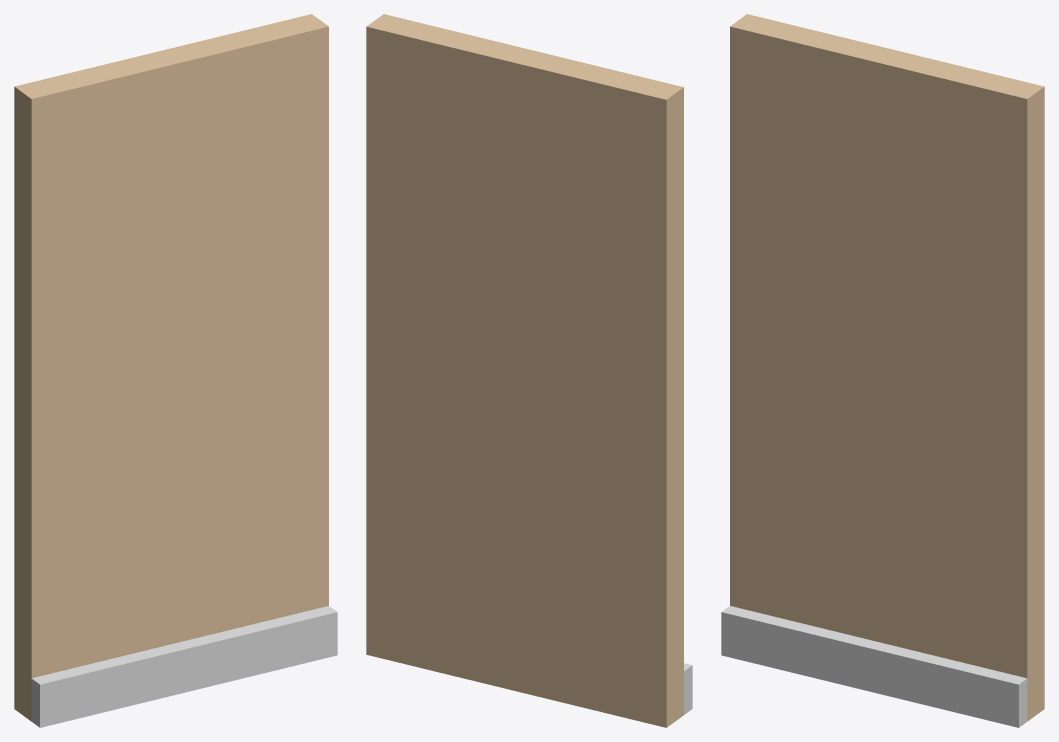
Rendered from Wand.fbx.
The picture shows the model from 3 angles, left to right: view 1: azimuth 30°, elevation 25°; view 2: azimuth 150°, elevation 25°; view 3: azimuth 330°, elevation 25°; orthographic projection.
Visible parts, largest first — view 1: Wand; view 2: Wand; view 3: Wand.
Part boxes in pixels (x1,y1,x2,y2): Wand: (14,14,337,727); Wand: (366,14,692,727); Wand: (721,14,1044,727).
Size of the model in its own units: 200 by 400 by 30.
